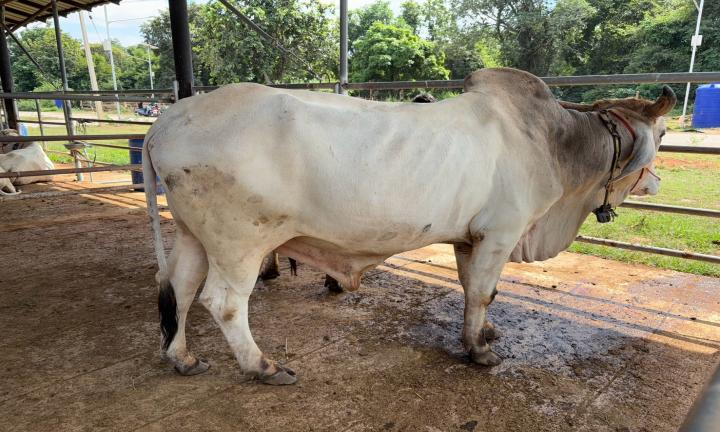Brahman: (143, 68, 676, 384)
